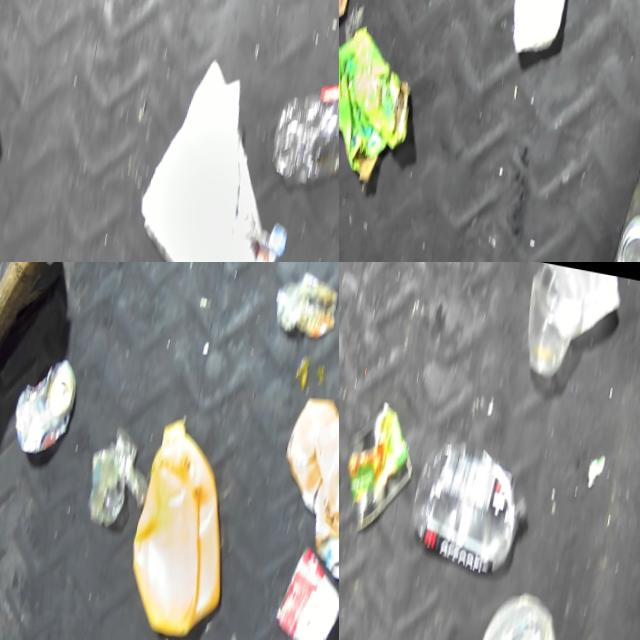can: (339, 392, 419, 541), (9, 350, 84, 462), (614, 211, 640, 262)
non_white_jug: (120, 411, 252, 640), (268, 390, 339, 580)
plastic_bottle: (122, 51, 309, 262), (405, 440, 540, 576), (272, 74, 339, 194)
